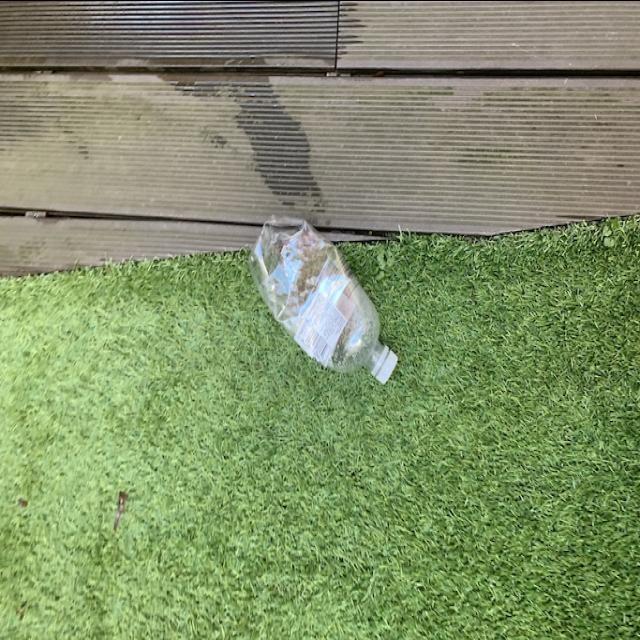PET: (248, 214, 401, 386)
